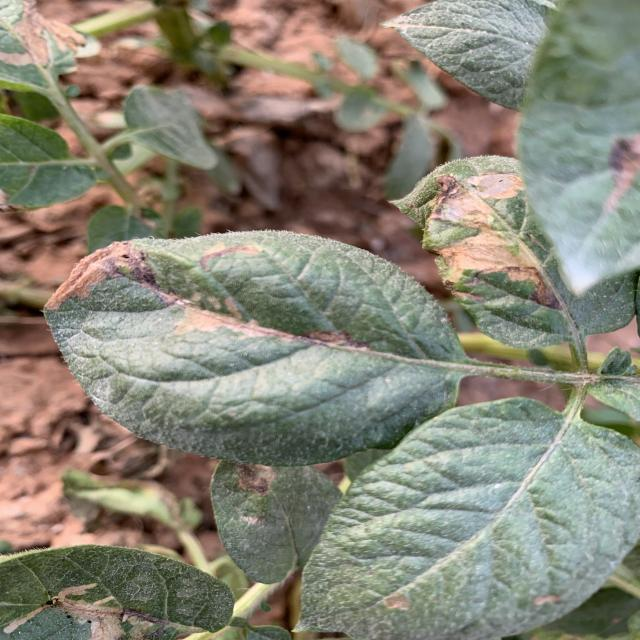lateblight: (428, 212, 560, 310), (45, 241, 157, 310), (400, 171, 523, 229), (173, 299, 303, 342), (200, 242, 262, 270), (465, 171, 525, 199), (302, 330, 370, 350)
